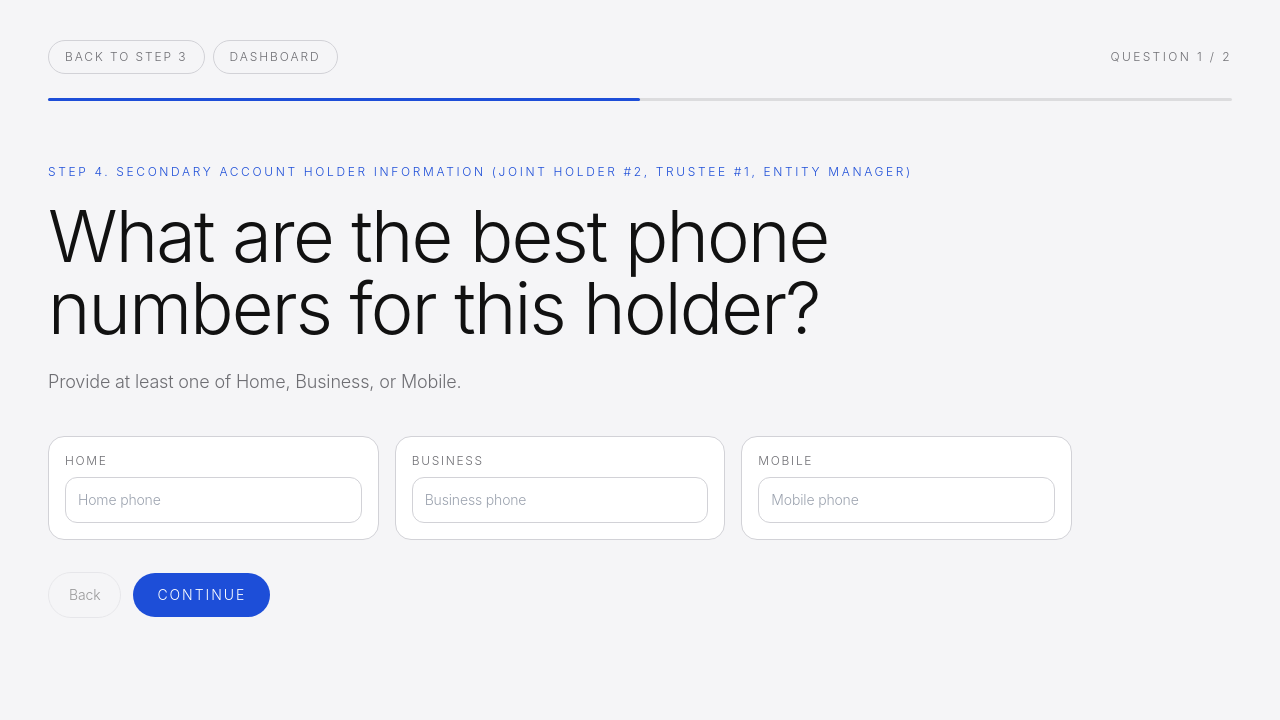
InvestorProfileStep4Page › loads grouped phones question and submits grouped answer patch
Expected: the text "STEP 4. SECONDARY ACCOUNT HOLDER INFORMATION (Joint Holder #2, Trustee #1, Entity Manager)" is shown, [48,164,913,178]
Expected: the heading "What are the best phone numbers for this holder?" is shown, [48,192,828,350]
Type "+1 555 555 1212" into the field with placeholder "Mobile phone" at x=907, y=500, box [758,476,1055,522]
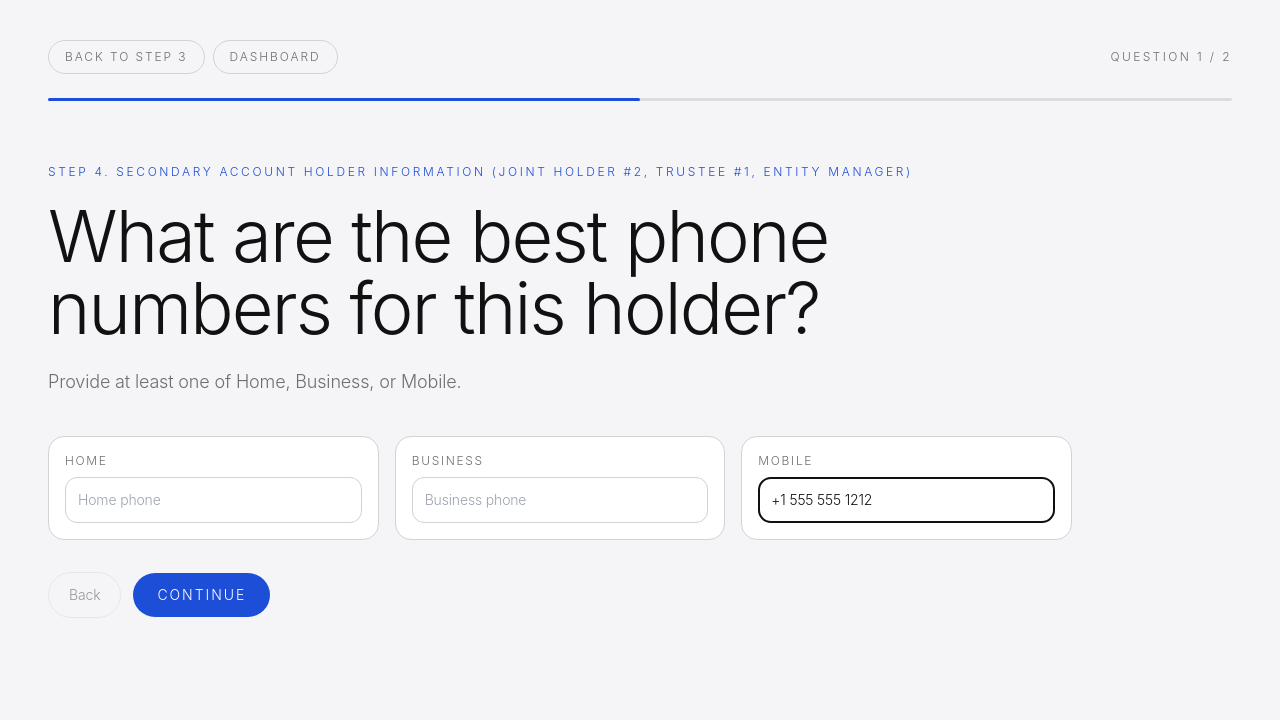
Click the button "Continue" at x=202, y=594, box [133,572,270,616]
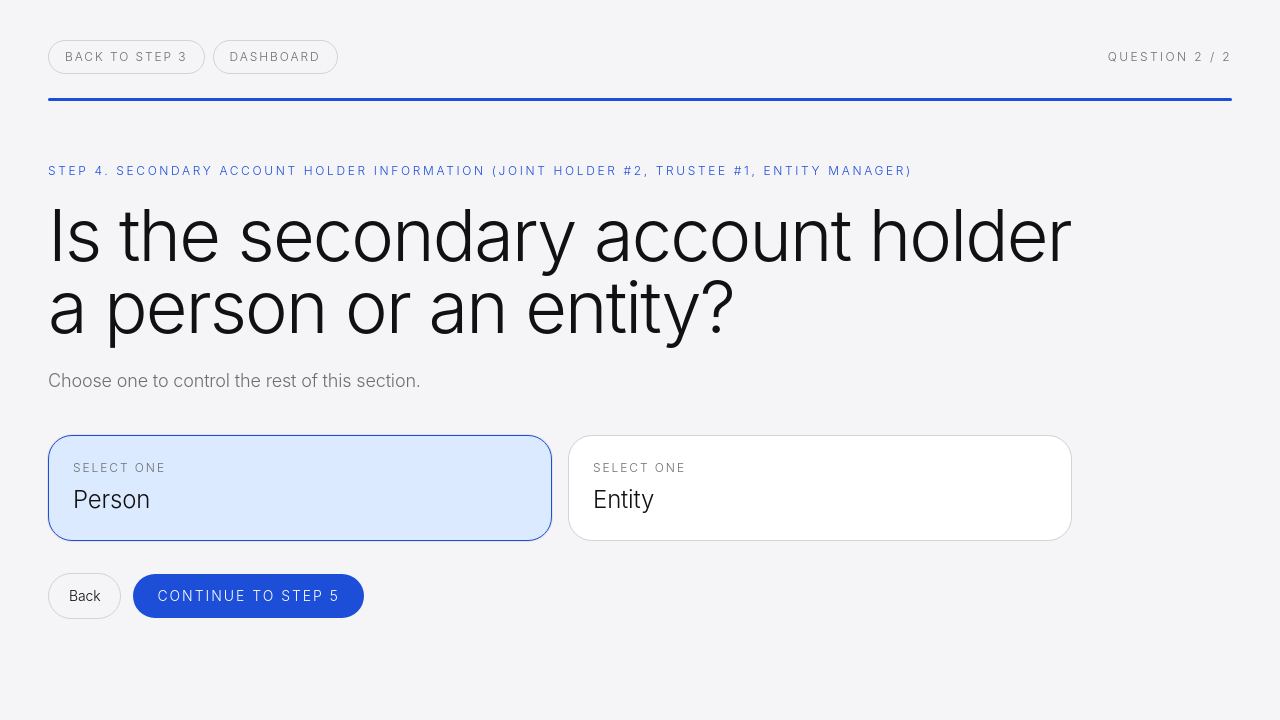
Result: the heading "Is the secondary account holder a person or an entity?" is shown at [48,198,1072,342]
